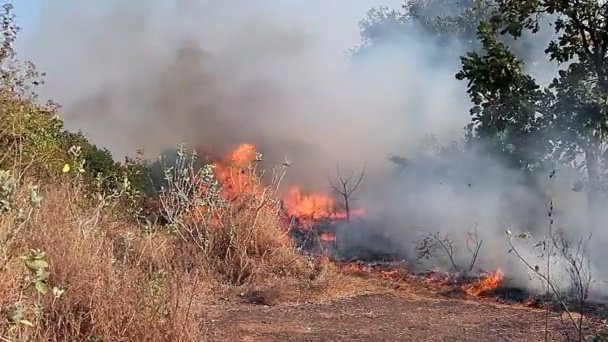fire: (293, 194, 333, 216), (233, 143, 256, 164), (479, 270, 500, 290), (62, 163, 70, 170)
